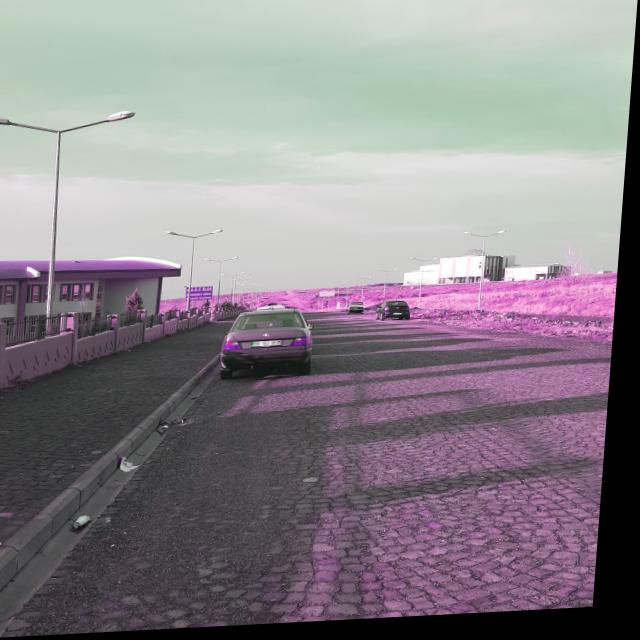license_plate: (257, 343, 287, 350)
